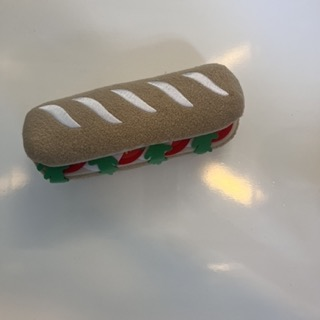sandwich: (23, 63, 243, 184)
